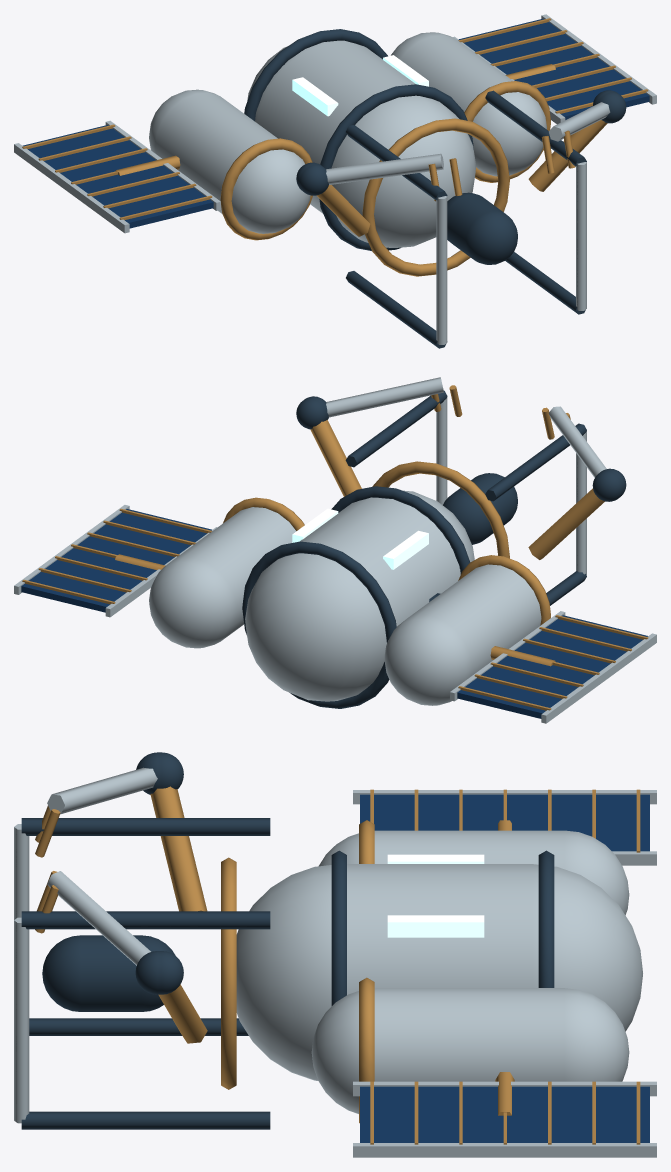
File: base-equipment.glb
3 views of the same model, one above another, from view 1: azimuth 30°, elevation 25°; view 2: azimuth 150°, elevation 25°; view 3: azimuth 270°, elevation 25° (orthographic). The views are drawn at different scales.
Parts seen in each view (by area): view 1: _MeshInstance3D_151, _MeshInstance3D_154, _MeshInstance3D_172, _MeshInstance3D_157, _MeshInstance3D_175, _MeshInstance3D_190, _MeshInstance3D_191, _MeshInstance3D_153, _MeshInstance3D_155, _MeshInstance3D_152, _MeshInstance3D_196, _MeshInstance3D_169 (+18 smaller); view 2: _MeshInstance3D_151, _MeshInstance3D_154, _MeshInstance3D_172, _MeshInstance3D_157, _MeshInstance3D_175, _MeshInstance3D_152, _MeshInstance3D_191, _MeshInstance3D_190, _MeshInstance3D_153, _MeshInstance3D_201, _MeshInstance3D_195, _MeshInstance3D_200 (+16 smaller); view 3: _MeshInstance3D_151, _MeshInstance3D_172, _MeshInstance3D_175, _MeshInstance3D_157, _MeshInstance3D_154, _MeshInstance3D_191, _MeshInstance3D_186, _MeshInstance3D_177, _MeshInstance3D_170, _MeshInstance3D_188, _MeshInstance3D_190, _MeshInstance3D_168 (+20 smaller).
Part boxes in pixels (x1=…): _MeshInstance3D_151: x1=247, y1=40, x2=476, y2=247; _MeshInstance3D_154: x1=149, y1=89, x2=310, y2=233; _MeshInstance3D_172: x1=391, y1=32, x2=546, y2=176; _MeshInstance3D_157: x1=23, y1=125, x2=213, y2=228; _MeshInstance3D_175: x1=459, y1=18, x2=649, y2=119; _MeshInstance3D_190: x1=362, y1=118, x2=509, y2=276; _MeshInstance3D_191: x1=447, y1=192, x2=517, y2=264; _MeshInstance3D_153: x1=319, y1=84, x2=473, y2=250; _MeshInstance3D_155: x1=220, y1=138, x2=312, y2=240; _MeshInstance3D_152: x1=244, y1=29, x2=387, y2=121; _MeshInstance3D_196: x1=326, y1=153, x2=443, y2=184; _MeshInstance3D_169: x1=436, y1=196, x2=447, y2=344; _MeshInstance3D_151: x1=245, y1=490, x2=474, y2=701; _MeshInstance3D_154: x1=384, y1=564, x2=541, y2=705; _MeshInstance3D_172: x1=149, y1=507, x2=296, y2=648; _MeshInstance3D_157: x1=457, y1=615, x2=647, y2=718; _MeshInstance3D_175: x1=21, y1=509, x2=211, y2=612; _MeshInstance3D_152: x1=242, y1=541, x2=396, y2=708; _MeshInstance3D_191: x1=443, y1=473, x2=517, y2=544; _MeshInstance3D_190: x1=372, y1=461, x2=509, y2=558; _MeshInstance3D_153: x1=331, y1=486, x2=470, y2=574; _MeshInstance3D_201: x1=326, y1=377, x2=443, y2=417; _MeshInstance3D_195: x1=528, y1=488, x2=604, y2=559; _MeshInstance3D_200: x1=310, y1=419, x2=361, y2=496; _MeshInstance3D_151: x1=236, y1=864, x2=642, y2=1080; _MeshInstance3D_172: x1=311, y1=988, x2=629, y2=1113; _MeshInstance3D_175: x1=360, y1=1086, x2=649, y2=1142; _MeshInstance3D_157: x1=360, y1=794, x2=649, y2=851; _MeshInstance3D_154: x1=319, y1=830, x2=629, y2=915; _MeshInstance3D_191: x1=42, y1=935, x2=175, y2=1011; _MeshInstance3D_186: x1=21, y1=1111, x2=270, y2=1129; _MeshInstance3D_177: x1=353, y1=1143, x2=656, y2=1157; _MeshInstance3D_170: x1=21, y1=818, x2=270, y2=835; _MeshInstance3D_188: x1=21, y1=911, x2=270, y2=929; _MeshInstance3D_190: x1=221, y1=857, x2=236, y2=1089; _MeshInstance3D_168: x1=29, y1=1018, x2=248, y2=1035.
Size of the model in its own units: 6.11 by 2.02 by 4.66.
